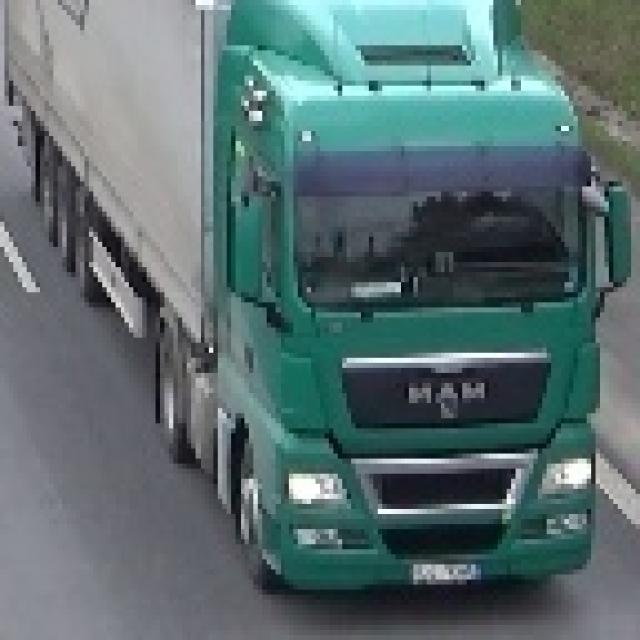TRUCK: (5, 1, 622, 615)
